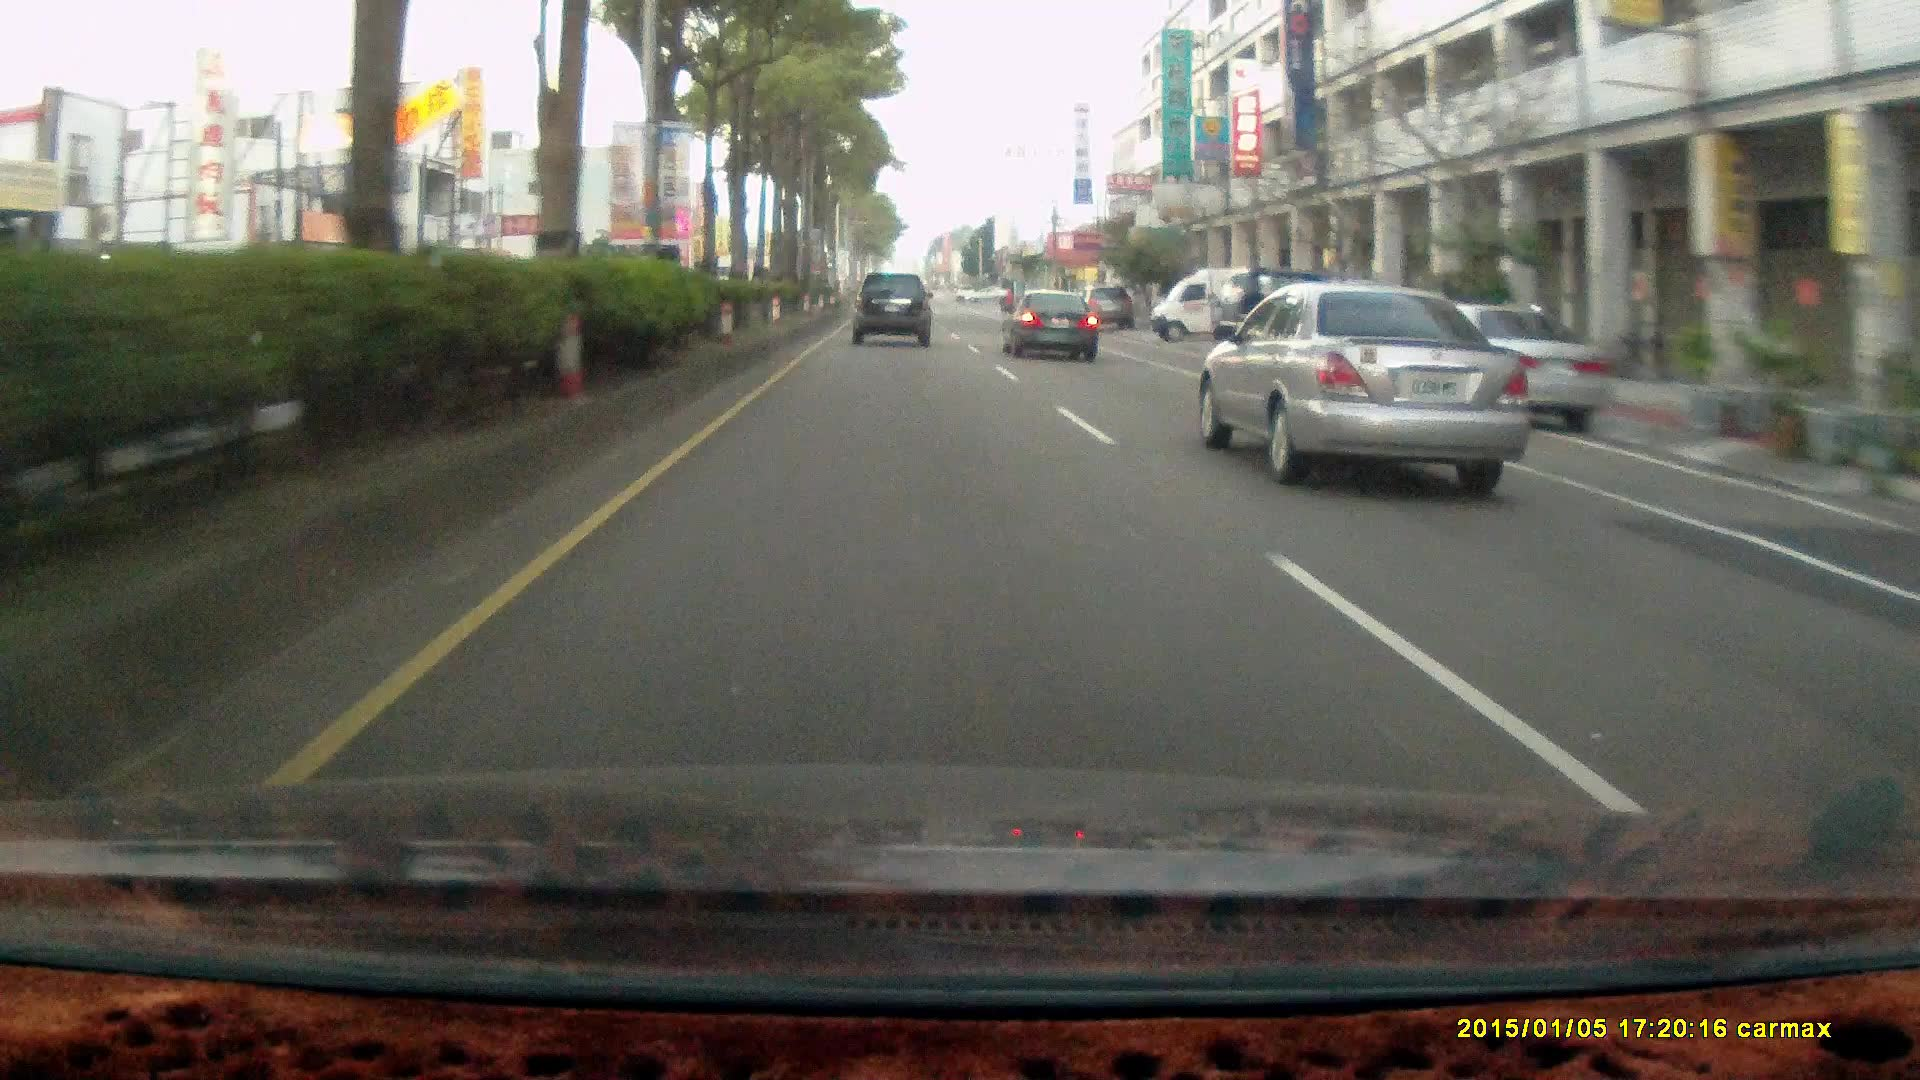vehicle: (1195, 287, 1524, 487), (1387, 301, 1610, 435), (1390, 309, 1609, 433), (1240, 273, 1379, 398), (1215, 268, 1354, 382), (1149, 266, 1295, 345), (1149, 266, 1294, 344), (1000, 291, 1102, 367), (1000, 287, 1096, 361), (851, 276, 935, 353), (851, 272, 932, 345), (1073, 284, 1134, 328)
